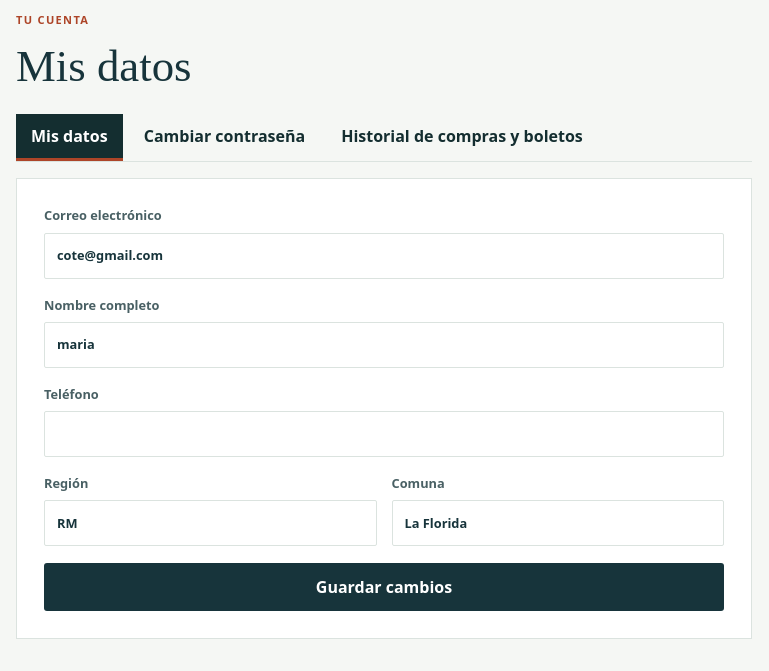
Test: ProfilePage › carga los datos, permite editarlos y guarda por PUT auth/me
Expected: the field labelled "Correo electrónico" is disabled, [44,233,724,279]
Replace the text in the field labelled "Nombre completo" with "María Pérez" at (384, 345), box [44,322,724,368]
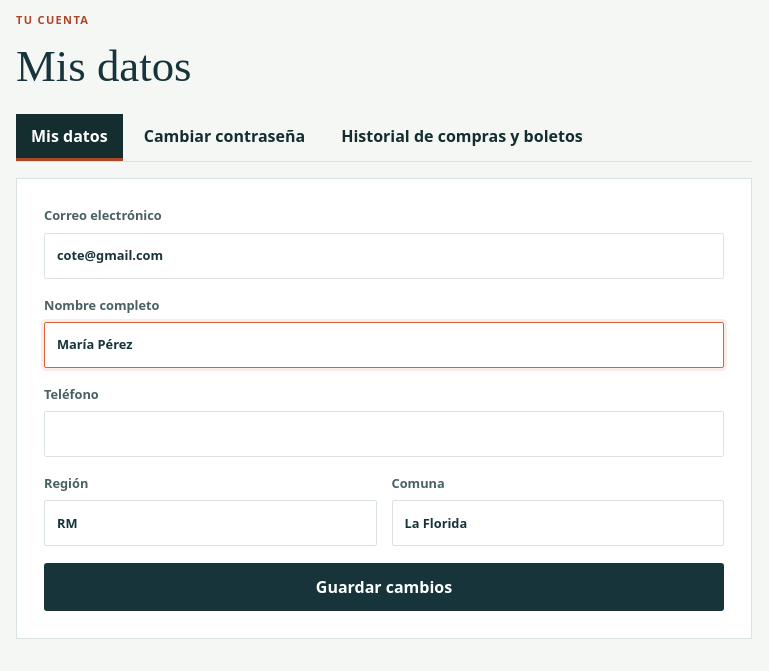
Click the button "Guardar cambios" at (384, 587), box [44,563,724,611]
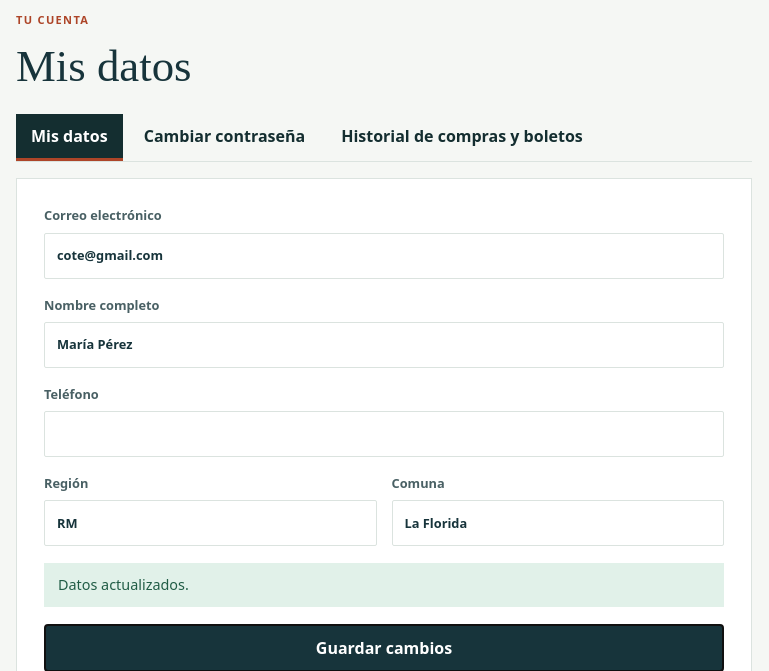
Expected: the message shows "Datos actualizados", [58,575,189,594]
